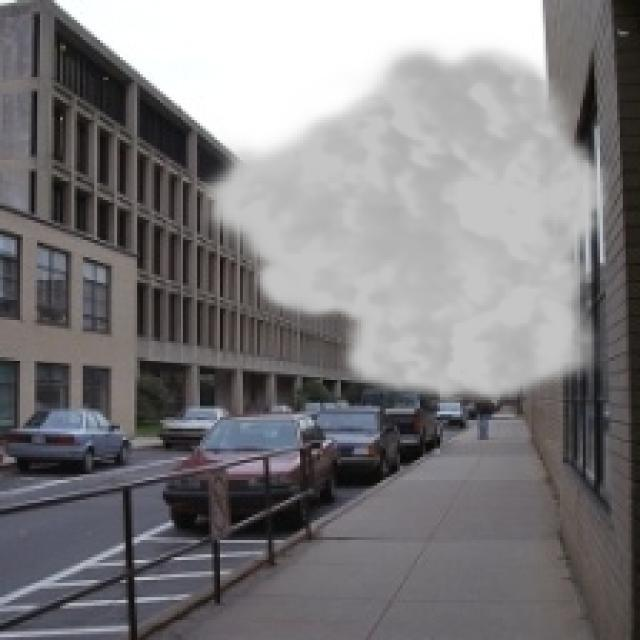Smoke: (192, 34, 614, 412)
